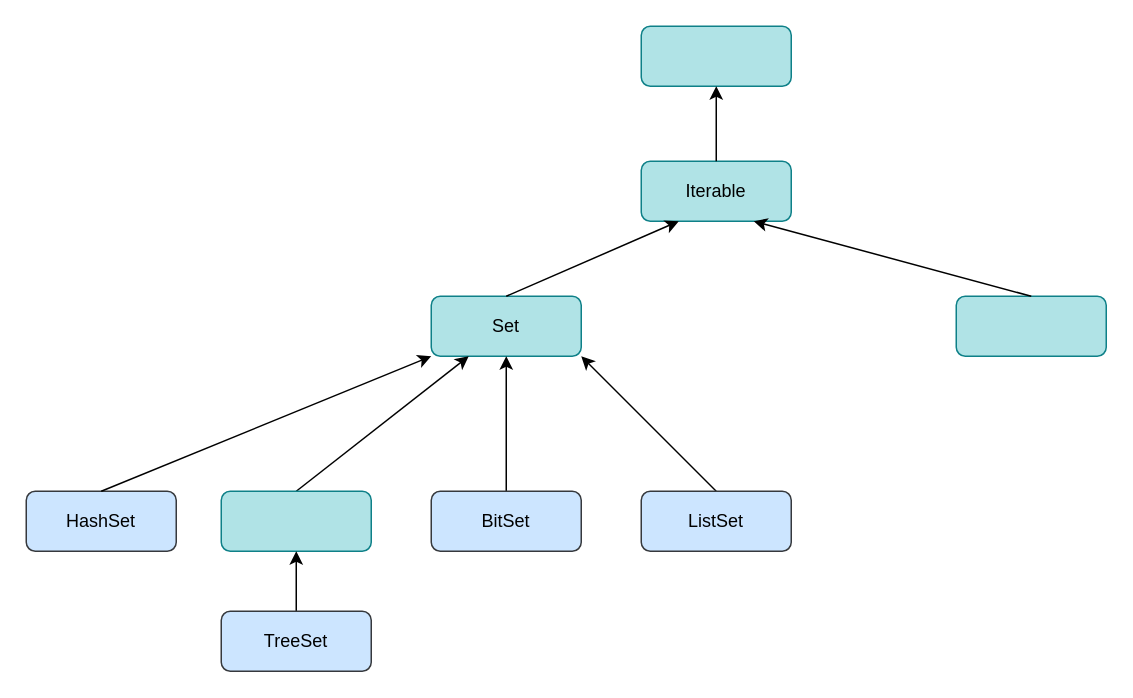
Image size: 1133x698. Some labels were removed from this diagram. The centre of each missing label's shape, as x and y in pixels:
"Map" belongs at pixel 1030 325.
"SortedSet" belongs at pixel 295 520.
"Traversable" belongs at pixel 715 55.
